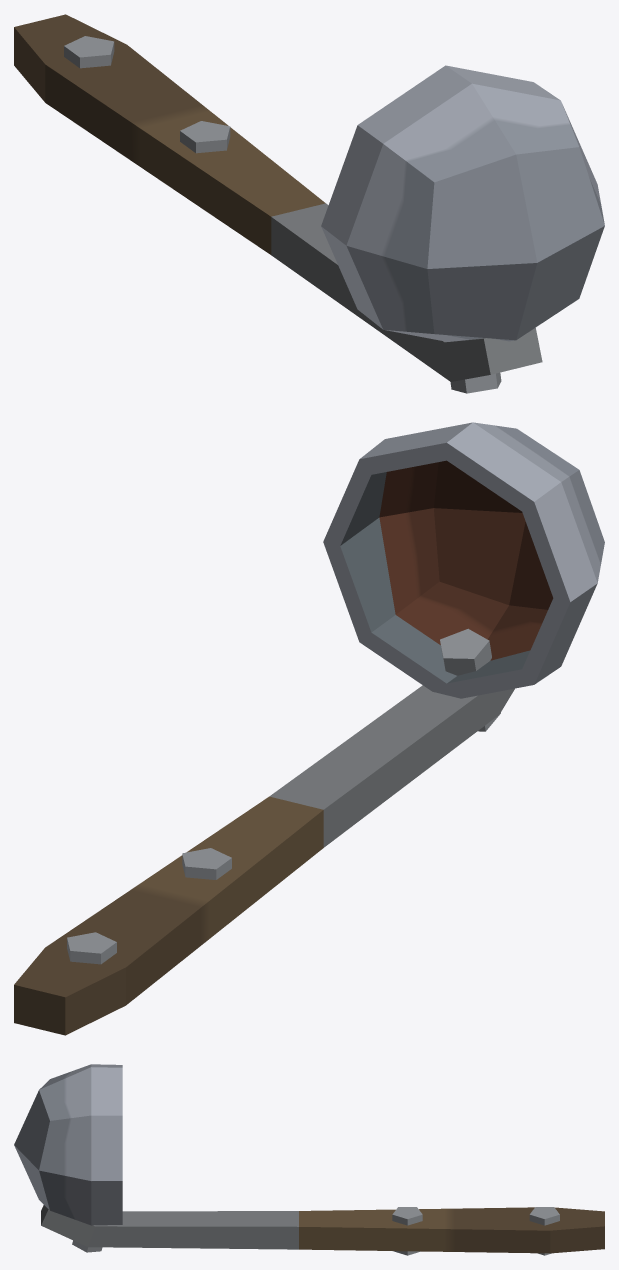
Rendered from SM_Prop_Laddle_01.fbx.
3 renders of one model, top to bottom at view 1: azimuth 30°, elevation 25°; view 2: azimuth 150°, elevation 25°; view 3: azimuth 270°, elevation 25°, orthographic. The views are drawn at different scales.
Visible parts, largest first — view 1: SM_Prop_Laddle_01; view 2: SM_Prop_Laddle_01; view 3: SM_Prop_Laddle_01.
Boxes of the visible parts, left/top/right/bottom form: SM_Prop_Laddle_01: left=14, top=14, right=604, bottom=393; SM_Prop_Laddle_01: left=14, top=422, right=604, bottom=1035; SM_Prop_Laddle_01: left=14, top=1064, right=604, bottom=1255.
Bounding box in the file's own units: 16.09 × 18.77 × 55.41.
